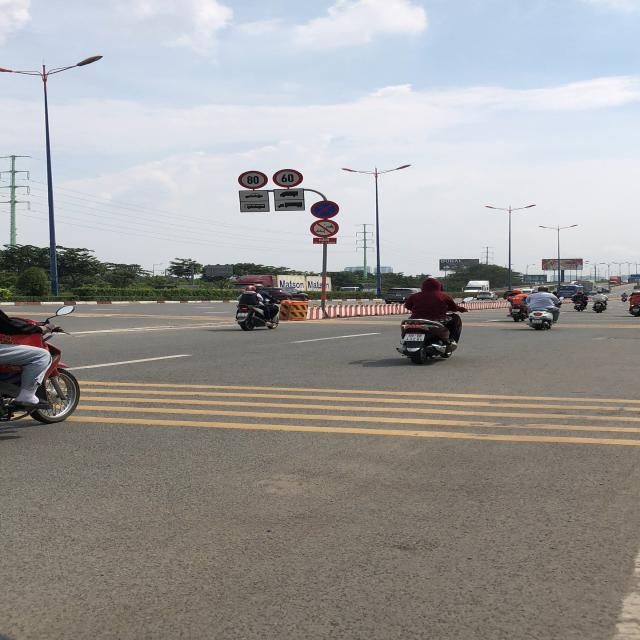Bien bao toc do toi da cho phep: (270, 167, 305, 188), (236, 170, 269, 189)
